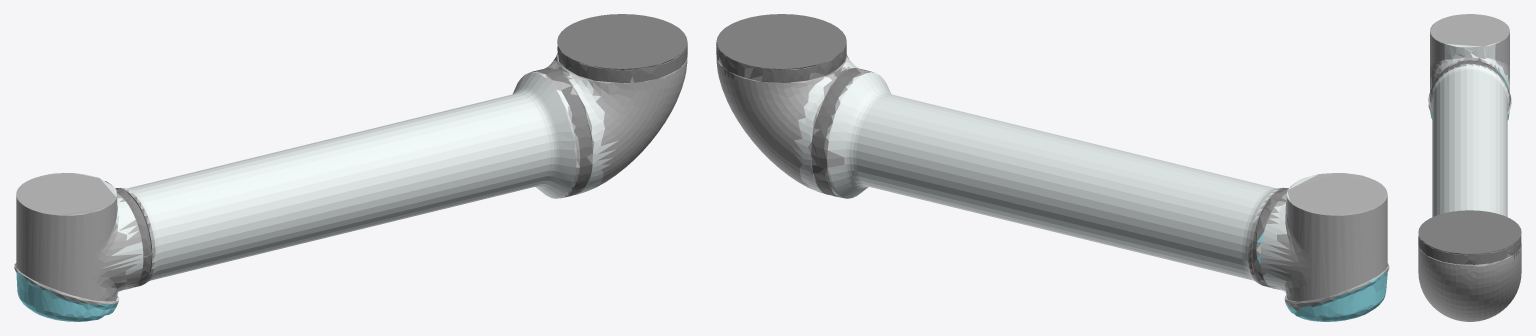
The model's file is UR10eLink3.dae.
The picture shows the model from 3 angles, left to right: view 1: azimuth 30°, elevation 25°; view 2: azimuth 150°, elevation 25°; view 3: azimuth 270°, elevation 25°; orthographic projection. The views are drawn at different scales.
Parts seen in each view (by area): view 1: UR10eLink3; view 2: UR10eLink3; view 3: UR10eLink3.
Boxes of the visible parts, x1,y1,x2,y2 form: UR10eLink3: [14, 14, 687, 321]; UR10eLink3: [716, 14, 1389, 321]; UR10eLink3: [1418, 14, 1521, 321].
Size of the model in its own units: 0.6762 by 0.116 by 0.1318.
